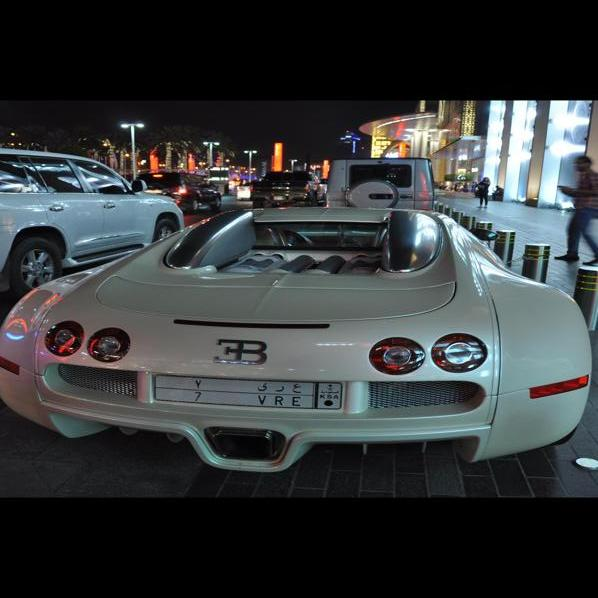numberplate: (153, 369, 345, 414)
